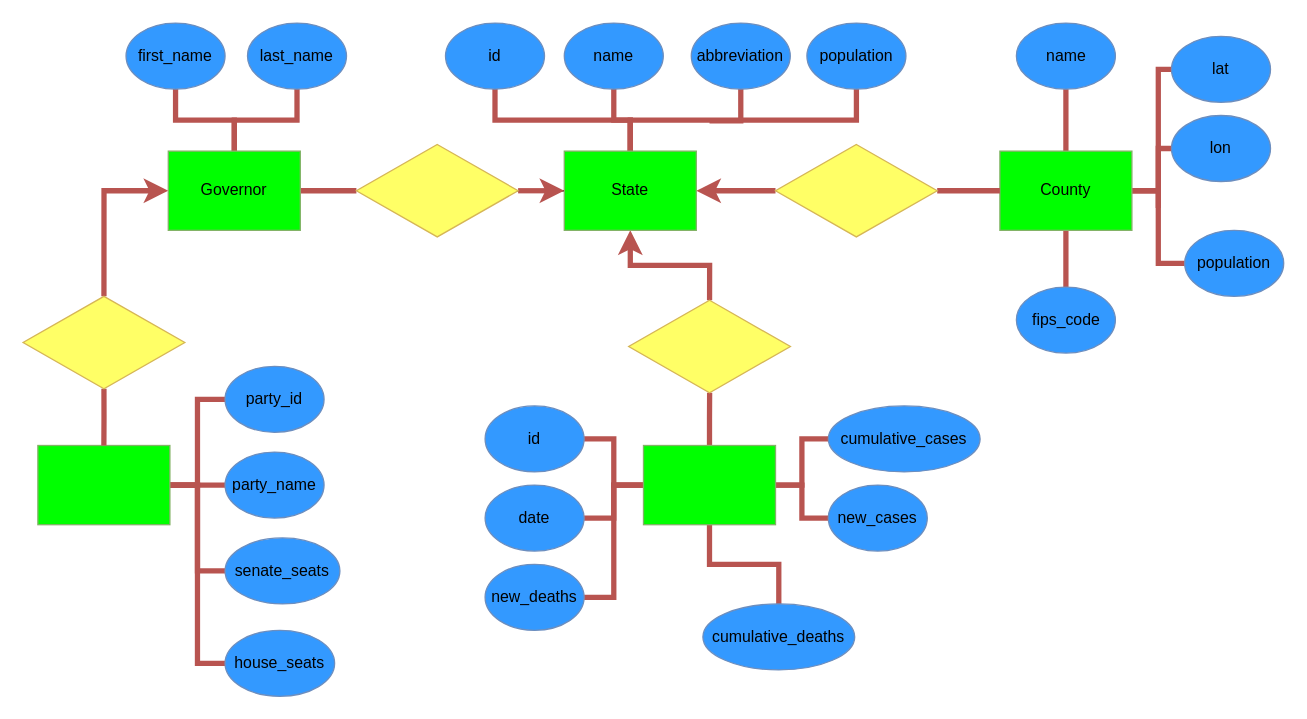
Some shapes in this 1307 by 719 pixel diagram are drawn without their labels. The centre of each missing label's shape, as x and y in pixels:
"Belongs to" goes at [103,342].
"Consists of" goes at [855,190].
"Governed By" goes at [436,190].
"Has" goes at [708,346].
"Party" goes at [103,484].
"Report" goes at [709,484].
